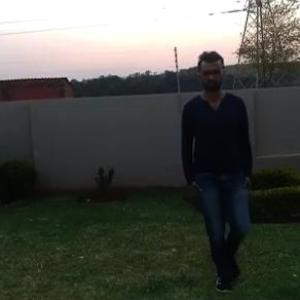follow: (178, 45, 250, 287)
